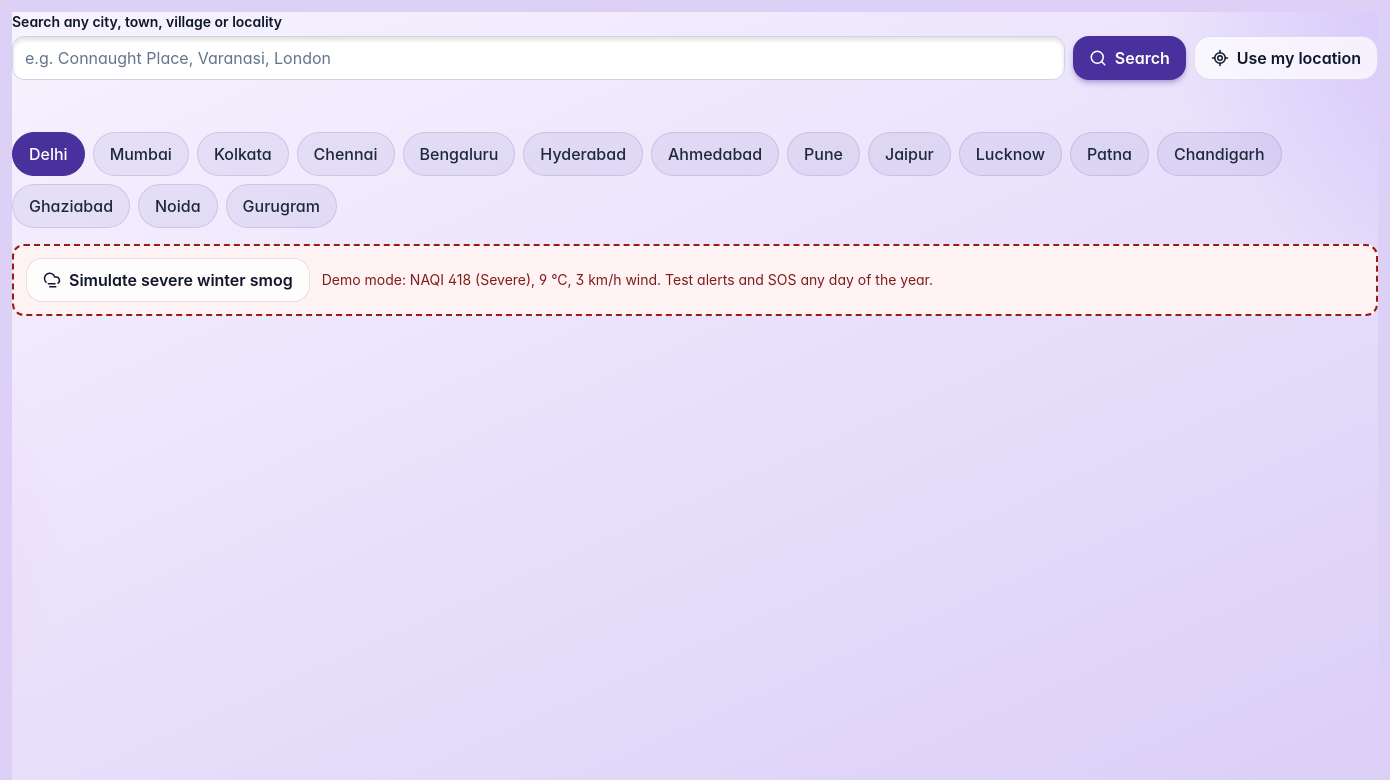
Scenario: LocationBar › offers quick picks for major Indian cities
The width and height of the screenshot is (1390, 780).
Expected: the element named "Quick pick cities" shows "Bengaluru", [402,132,515,176]
Click the button "Chennai" at (346, 154), box [297,132,394,176]
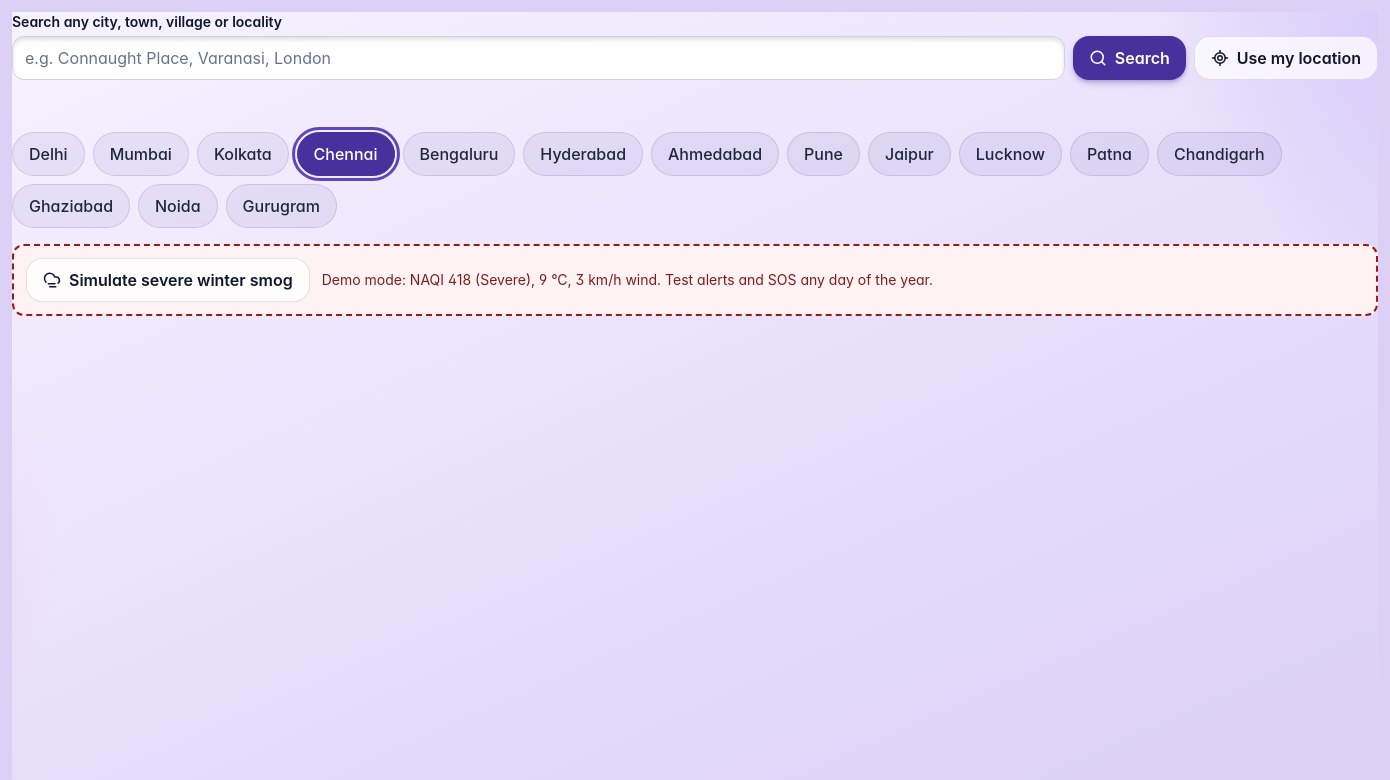
Expected: the button "Chennai" is pressed, [297,132,394,176]
